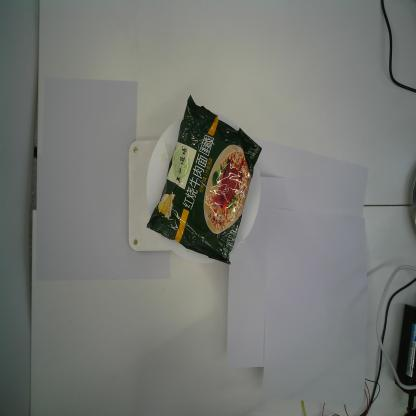Instant Noodles: (146, 94, 262, 264)
